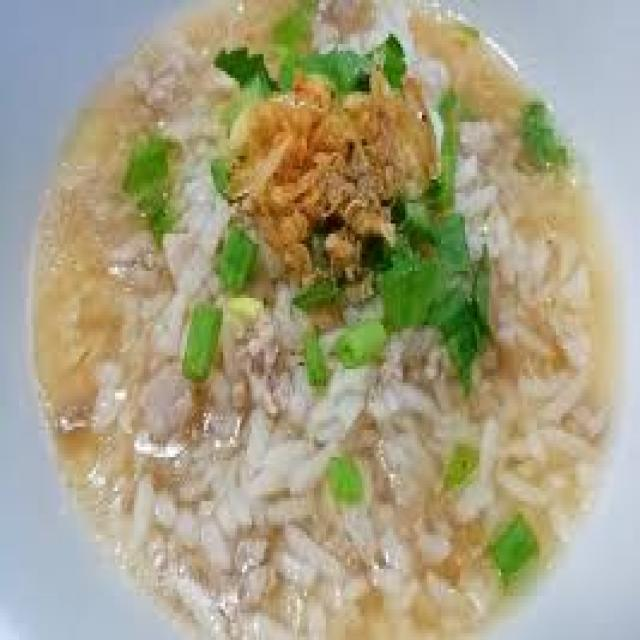carb: (146, 290, 554, 624)
rice porridge: (42, 34, 584, 615)
vegetable: (249, 60, 502, 356)
